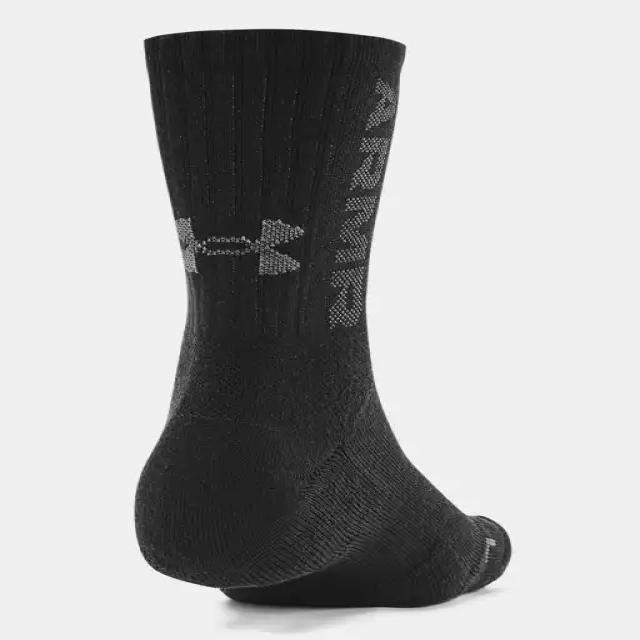sock: (133, 27, 512, 607)
